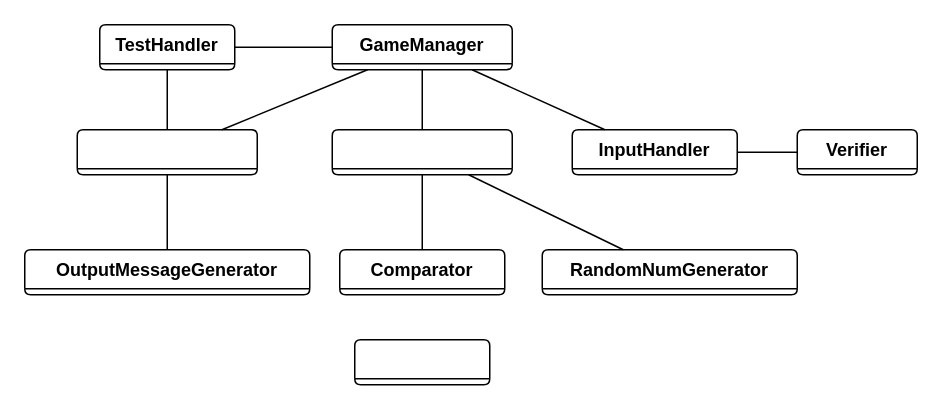
Some shapes in this 942 by 410 pixel diagram are drawn without their labels. Here are the shapes that lost their labels. From the top down, the box of each, then its label:
(76, 128, 257, 175): OutputHandler
(331, 128, 512, 175): ScoreChecker
(353, 338, 490, 385): Constant
